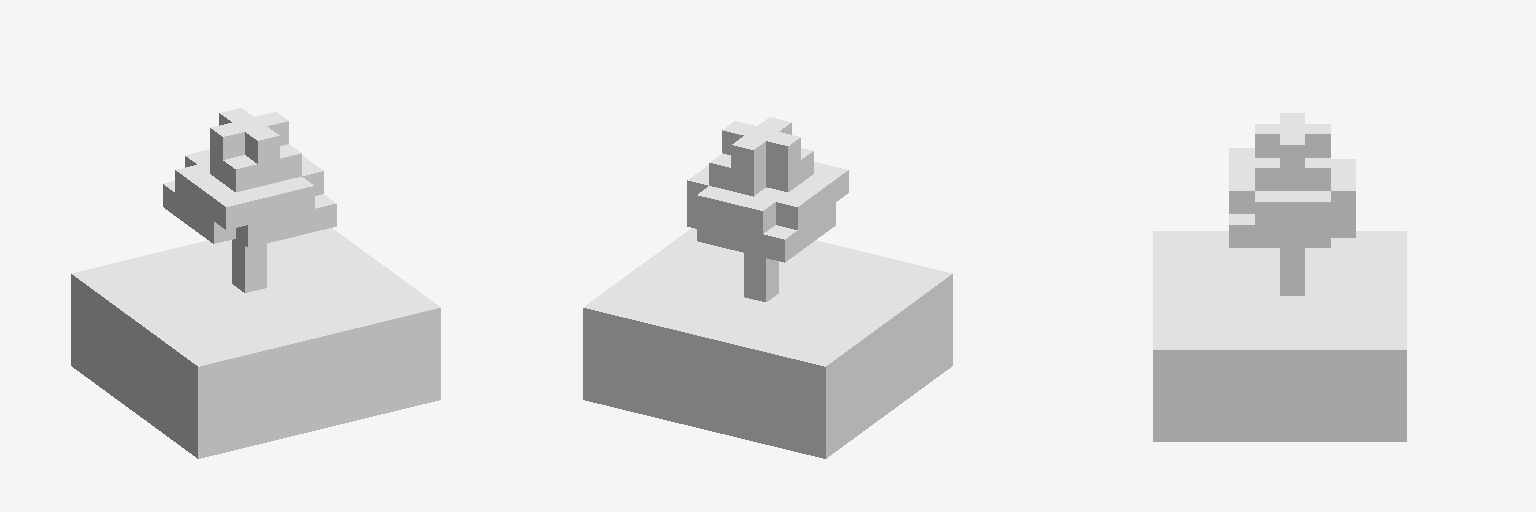
File: oak.obj
3 renders of one model, left to right at view 1: azimuth 30°, elevation 25°; view 2: azimuth 150°, elevation 25°; view 3: azimuth 270°, elevation 25°, orthographic.
Parts seen in each view (by area): view 1: New_World_(2)__30_0_-225_to_40_255_-216; view 2: New_World_(2)__30_0_-225_to_40_255_-216; view 3: New_World_(2)__30_0_-225_to_40_255_-216.
Boxes of the visible parts, box(x1,y1,x2,y2) form: New_World_(2)__30_0_-225_to_40_255_-216: box(71, 108, 440, 458); New_World_(2)__30_0_-225_to_40_255_-216: box(583, 117, 952, 458); New_World_(2)__30_0_-225_to_40_255_-216: box(1153, 113, 1406, 441).
Size of the model in its own units: 11 by 11 by 10.